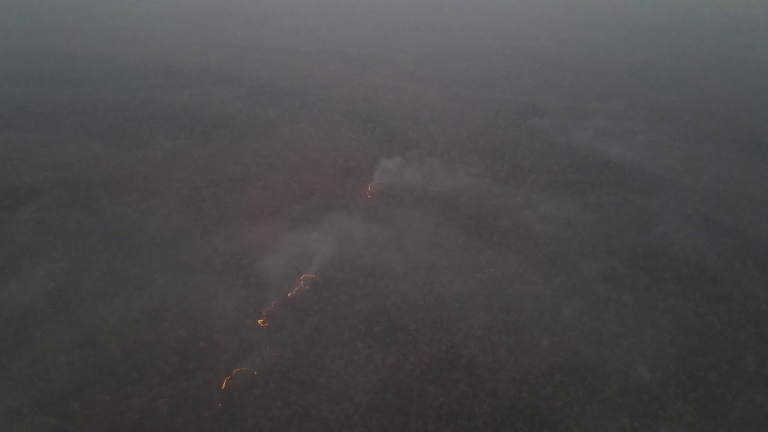fire: (217, 367, 253, 409), (284, 270, 316, 304), (254, 300, 281, 329), (362, 181, 377, 202)
smoke: (266, 212, 395, 270), (375, 155, 478, 195)
